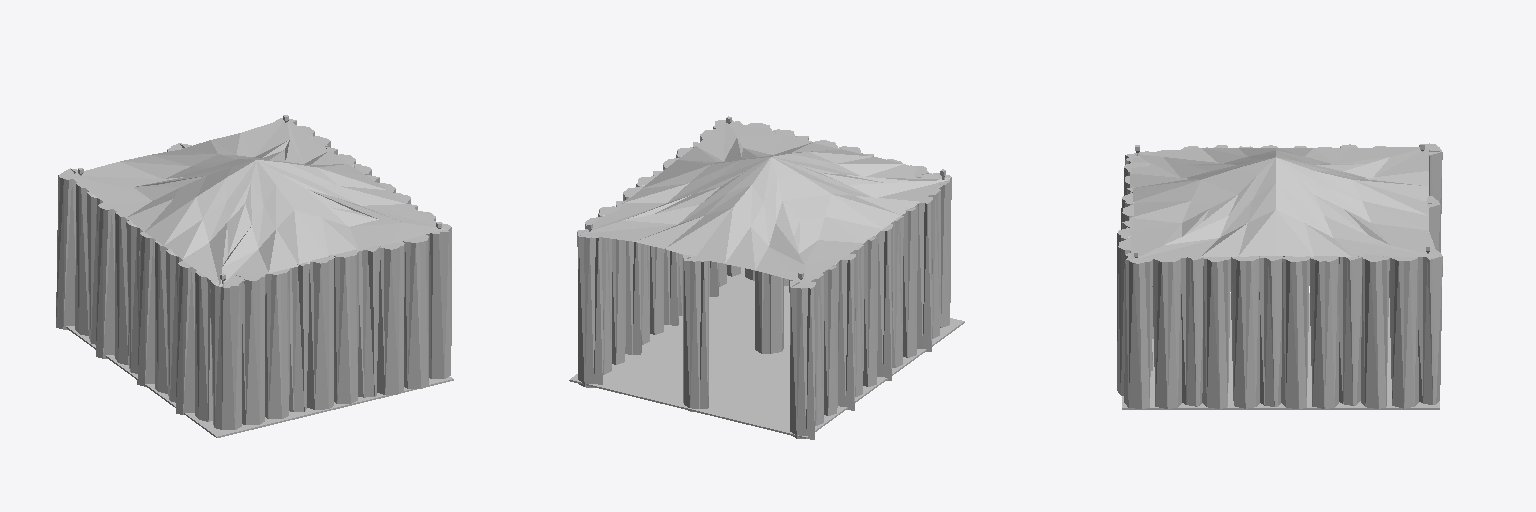
Rendered from Stockpile_Tent_3.obj.
3 views of the same model, side by side, from view 1: azimuth 30°, elevation 25°; view 2: azimuth 150°, elevation 25°; view 3: azimuth 270°, elevation 25° (orthographic).
Parts seen in each view (by area): view 1: Cylinder.030; view 2: Cylinder.030; view 3: Cylinder.030.
Boxes of the visible parts, x1=… form: Cylinder.030: x1=56, y1=115, x2=453, y2=437; Cylinder.030: x1=569, y1=116, x2=964, y2=439; Cylinder.030: x1=1117, y1=143, x2=1442, y2=409.
Bounding box in the file's own units: 8.9 × 6.75 × 10.16.